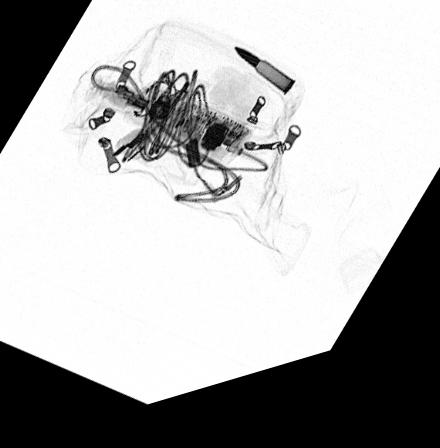Bullet: (233, 61, 295, 112)
